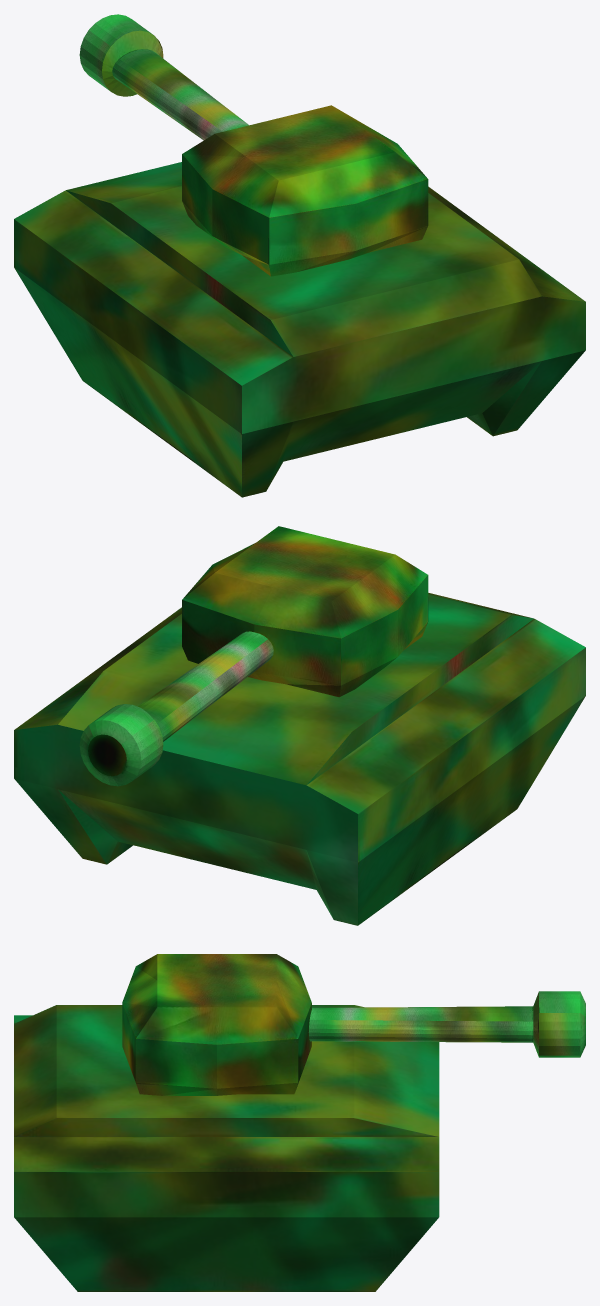
File: greentank.dae
3 renders of one model, top to bottom at view 1: azimuth 30°, elevation 25°; view 2: azimuth 150°, elevation 25°; view 3: azimuth 270°, elevation 25°, orthographic. The views are drawn at different scales.
Visible parts, largest first — view 1: Hull, Cylinder; view 2: Hull, Cylinder; view 3: Hull, Cylinder.
Boxes of the visible parts, left/top/right/bottom form: Hull: left=14, top=162, right=585, bottom=497; Cylinder: left=79, top=14, right=428, bottom=276; Hull: left=14, top=593, right=585, bottom=925; Cylinder: left=79, top=526, right=428, bottom=786; Hull: left=14, top=1005, right=439, bottom=1291; Cylinder: left=122, top=954, right=585, bottom=1095.
Bounding box in the file's own units: 0.962 × 1.48 × 0.7117.
